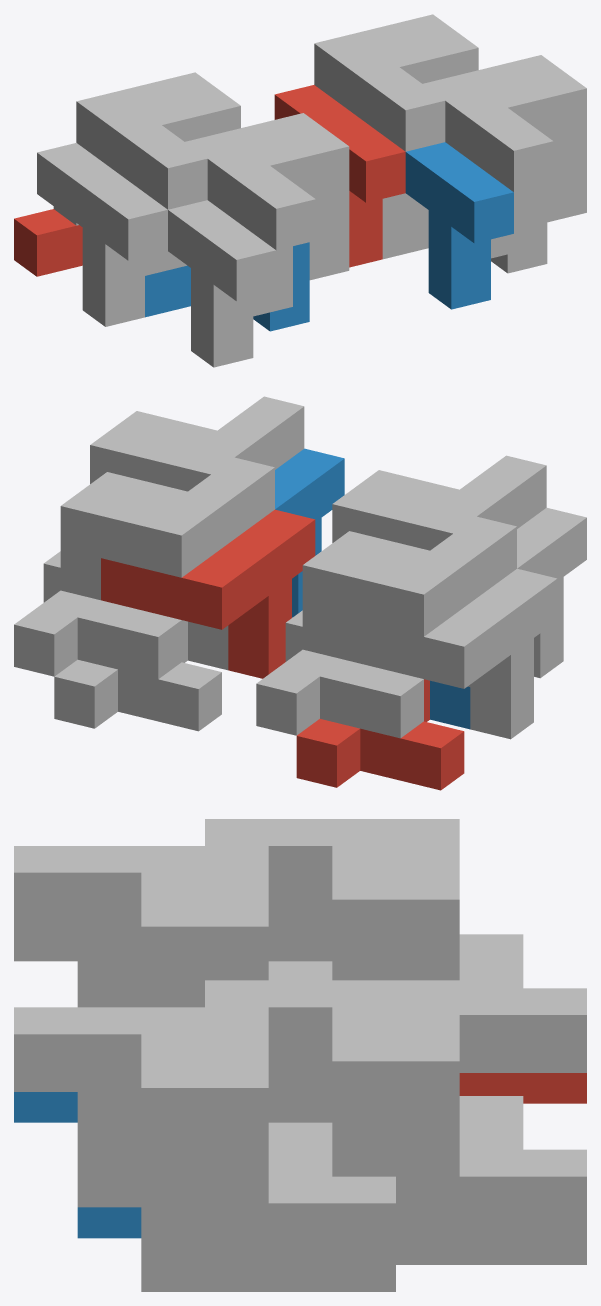
File: tiling.obj
3 renders of one model, top to bottom at view 1: azimuth 30°, elevation 25°; view 2: azimuth 150°, elevation 25°; view 3: azimuth 270°, elevation 25°, orthographic. The views are drawn at different scales.
Visible parts, largest first — view 1: copy_2_domain_1, copy_2_domain_6, copy_2_domain_2, copy_2_domain_7, copy_2_domain_3, copy_2_domain_8, copy_2_domain_4, copy_2_domain_5, copy_1_domain_4, copy_1_domain_8, copy_1_domain_6, copy_1_domain_2 (+3 smaller); view 2: copy_2_domain_1, copy_2_domain_5, copy_2_domain_7, copy_2_domain_3, copy_1_domain_7, copy_1_domain_3, copy_2_domain_8, copy_2_domain_4, copy_1_domain_5, copy_1_domain_1, copy_2_domain_2, copy_2_domain_6 (+4 smaller); view 3: copy_1_domain_8, copy_2_domain_8, copy_1_domain_7, copy_2_domain_4, copy_2_domain_7, copy_2_domain_3, copy_1_domain_3, copy_1_domain_4, copy_1_domain_6, copy_1_domain_5, copy_2_domain_6, copy_1_domain_1 (+1 smaller).
Part boxes in pixels (left/top/right/bottom): copy_2_domain_1: left=37, top=143, right=167, bottom=326; copy_2_domain_6: left=405, top=142, right=513, bottom=309; copy_2_domain_2: left=168, top=200, right=276, bottom=367; copy_2_domain_7: left=314, top=14, right=455, bottom=217; copy_2_domain_3: left=76, top=72, right=217, bottom=275; copy_2_domain_8: left=423, top=55, right=563, bottom=258; copy_2_domain_4: left=185, top=113, right=325, bottom=316; copy_2_domain_5: left=274, top=85, right=405, bottom=267; copy_1_domain_4: left=184, top=129, right=349, bottom=280; copy_1_domain_8: left=422, top=71, right=586, bottom=222; copy_1_domain_6: left=382, top=184, right=547, bottom=273; copy_1_domain_2: left=145, top=242, right=309, bottom=331; copy_2_domain_1: left=343, top=568, right=557, bottom=739; copy_2_domain_5: left=101, top=509, right=315, bottom=678; copy_2_domain_7: left=60, top=457, right=274, bottom=627; copy_2_domain_3: left=302, top=516, right=516, bottom=686; copy_1_domain_7: left=14, top=472, right=187, bottom=679; copy_1_domain_3: left=256, top=531, right=429, bottom=738; copy_2_domain_8: left=90, top=396, right=304, bottom=491; copy_2_domain_4: left=332, top=455, right=546, bottom=550; copy_1_domain_5: left=54, top=620, right=221, bottom=731; copy_1_domain_1: left=296, top=679, right=464, bottom=790; copy_2_domain_2: left=517, top=507, right=586, bottom=678; copy_2_domain_6: left=275, top=448, right=344, bottom=617; copy_1_domain_8: left=141, top=1034, right=395, bottom=1261; copy_2_domain_8: left=14, top=1007, right=268, bottom=1207; copy_1_domain_7: left=332, top=1007, right=586, bottom=1234; copy_2_domain_4: left=14, top=846, right=268, bottom=1007; copy_2_domain_7: left=205, top=980, right=459, bottom=1176; copy_2_domain_3: left=205, top=819, right=459, bottom=980; copy_1_domain_3: left=332, top=846, right=586, bottom=1072; copy_1_domain_4: left=141, top=872, right=332, bottom=1007; copy_1_domain_6: left=141, top=1261, right=395, bottom=1291; copy_1_domain_5: left=396, top=1234, right=586, bottom=1264; copy_2_domain_6: left=14, top=1092, right=141, bottom=1238; copy_1_domain_1: left=459, top=1073, right=586, bottom=1103.
Bounding box in the file's own units: 11 × 4 × 9.
